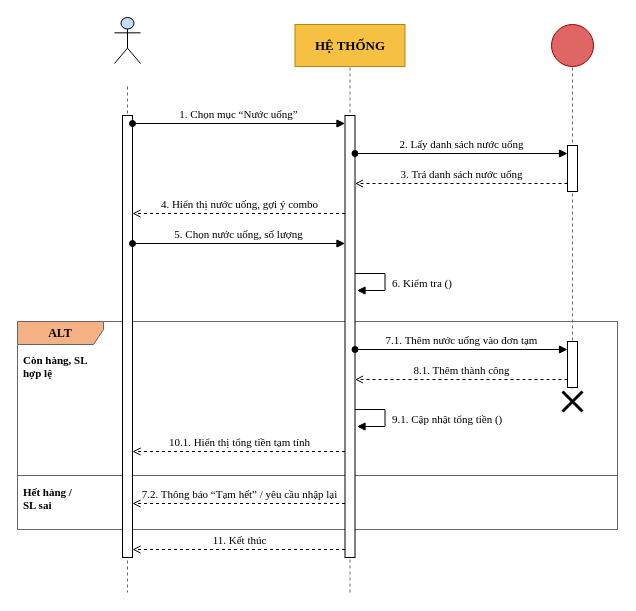
Some shapes in this 636 by 611 pixel diagram are drawn without their labels. The shapes that lost their labels are listed below. From the top down, each one's centre as x and y in pixels, then its label:
At point (127, 40): "Khách hàng".
At point (572, 45): "CSDL".
